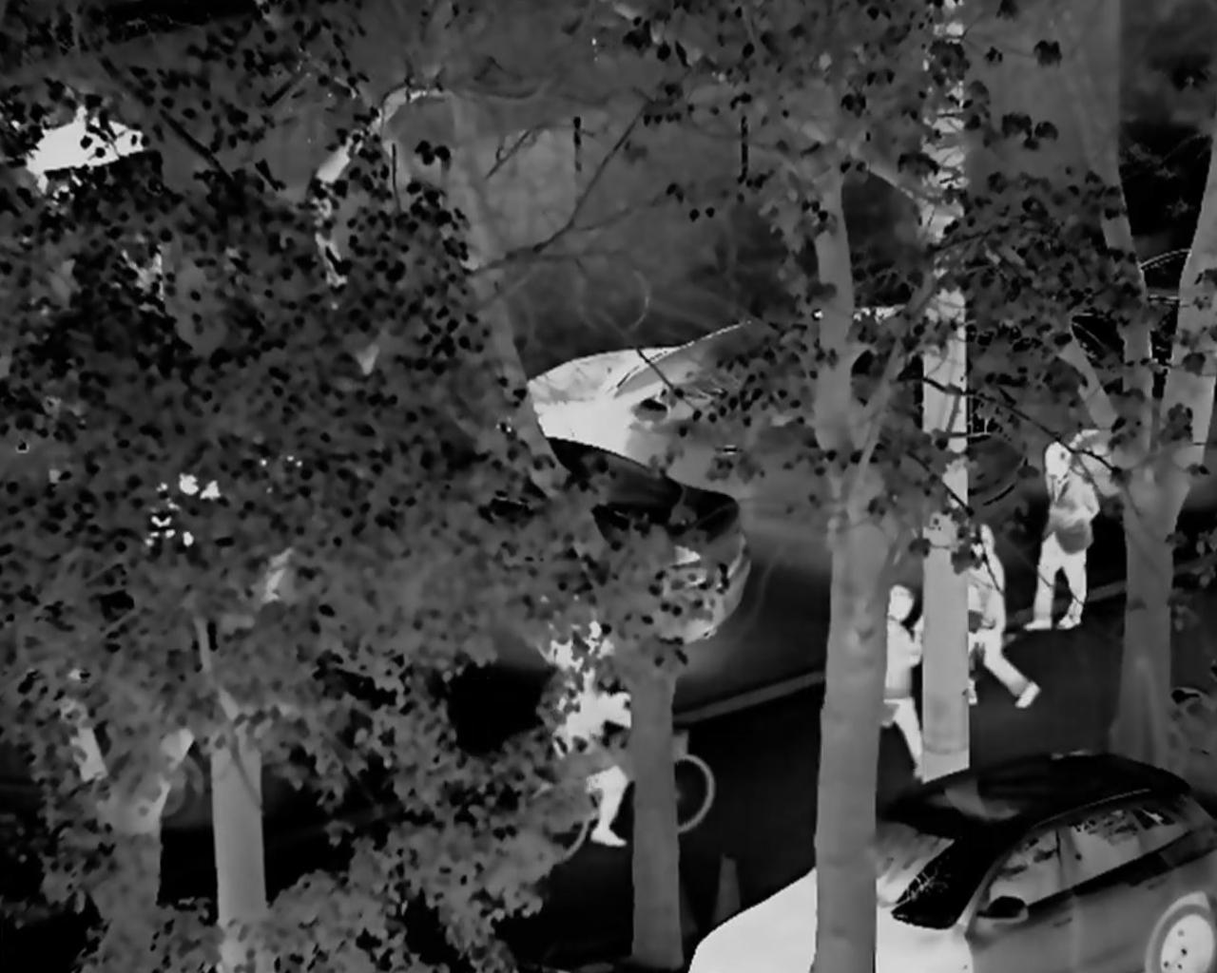person: (543, 631, 647, 862), (950, 524, 1038, 721), (852, 576, 932, 784), (1021, 424, 1094, 642)
